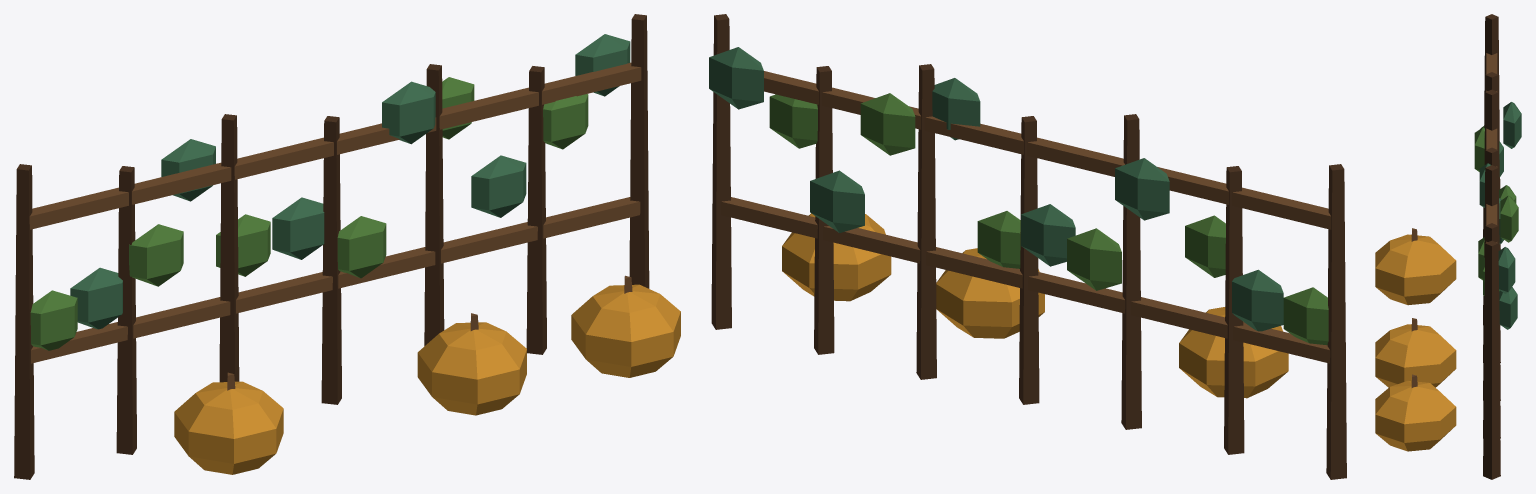
File: prop_life_pumpkin_fence.glb
The picture shows the model from 3 angles, left to right: view 1: azimuth 30°, elevation 25°; view 2: azimuth 150°, elevation 25°; view 3: azimuth 270°, elevation 25°; orthographic projection. The views are drawn at different scales.
Visible parts, largest first — view 1: prop_life_pumpkin_fence; view 2: prop_life_pumpkin_fence; view 3: prop_life_pumpkin_fence.
Boxes of the visible parts, x1,y1,x2,y2 form: prop_life_pumpkin_fence: (14, 14, 680, 479); prop_life_pumpkin_fence: (709, 14, 1346, 479); prop_life_pumpkin_fence: (1375, 14, 1521, 479).
Size of the model in its own units: 2.48 by 1.15 by 0.6541.
